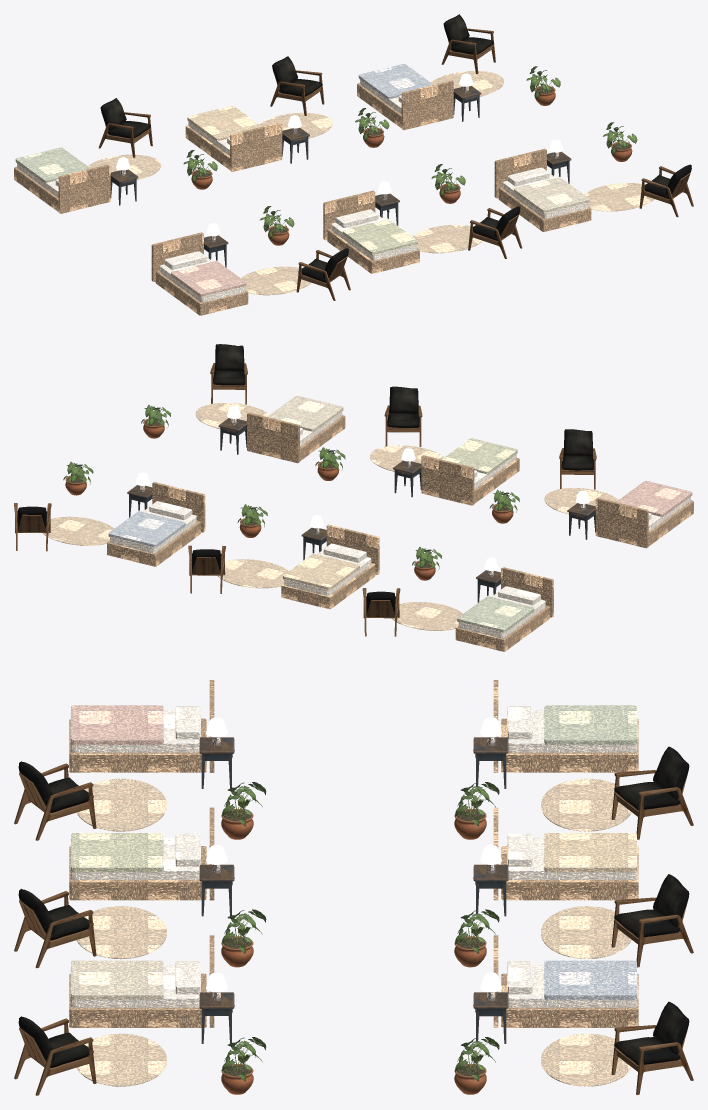
File: furniture.glb
The picture shows the model from 3 angles, top to bottom: view 1: azimuth 30°, elevation 25°; view 2: azimuth 150°, elevation 25°; view 3: azimuth 270°, elevation 25°; orthographic projection. The views are drawn at different scales.
Parts seen in each view (by area): view 1: furniture; view 2: furniture; view 3: furniture.
Part boxes in pixels (x1,y1,x2,y2): furniture: (14,14,693,315); furniture: (14,344,693,651); furniture: (14,680,693,1095).
Bounding box in the file's own units: 12.55 × 1.02 × 9.92.
41 materials, 30 textured.
